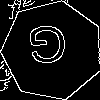G: (27, 25, 68, 73)
